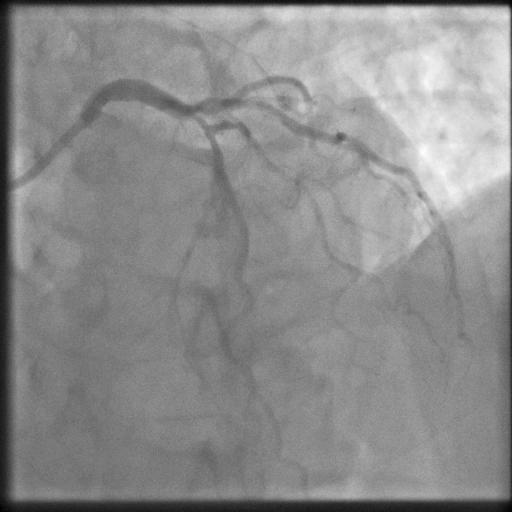Stenosis: (185, 109, 221, 143)
